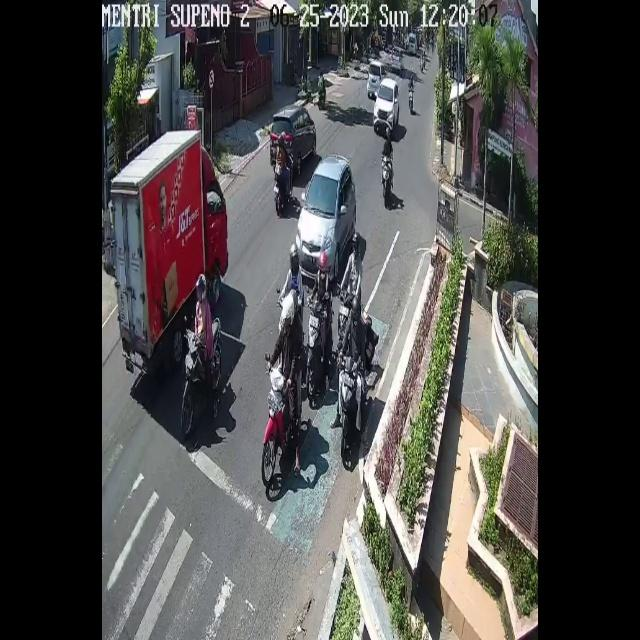bus: (179, 318, 221, 443), (261, 367, 289, 486), (338, 354, 363, 459), (306, 300, 327, 400), (275, 154, 293, 215), (338, 290, 355, 327), (381, 155, 392, 200), (318, 85, 326, 110), (408, 88, 414, 111)
motorcycle: (270, 106, 316, 174), (373, 77, 399, 133), (367, 60, 387, 98), (391, 48, 403, 74)
truck: (111, 130, 228, 374)
